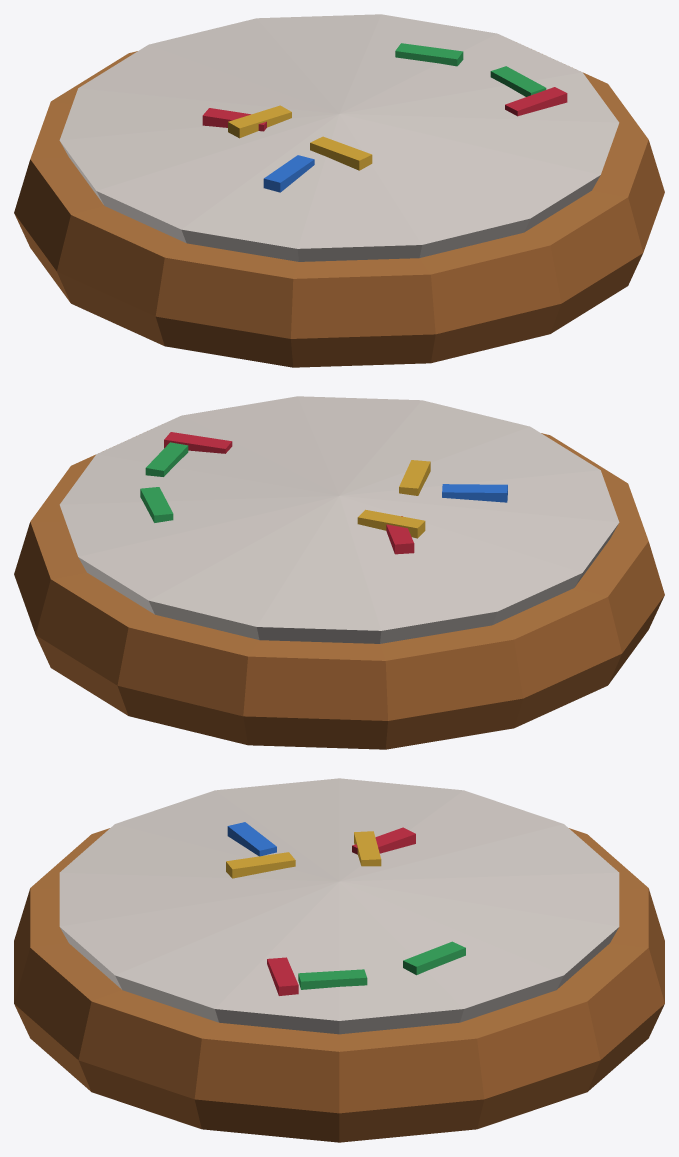
The model's file is Cookie_White.glb.
3 views of the same model, one above another, from view 1: azimuth 30°, elevation 25°; view 2: azimuth 150°, elevation 25°; view 3: azimuth 270°, elevation 25° (orthographic). The views are drawn at different scales.
Visible parts, largest first — view 1: Cookie_White; view 2: Cookie_White; view 3: Cookie_White.
Boxes of the visible parts, bbox=[...] form: Cookie_White: bbox=[14, 14, 664, 367]; Cookie_White: bbox=[14, 396, 664, 749]; Cookie_White: bbox=[14, 778, 664, 1142].
Size of the model in its own units: 3.2 by 0.6878 by 3.12.
